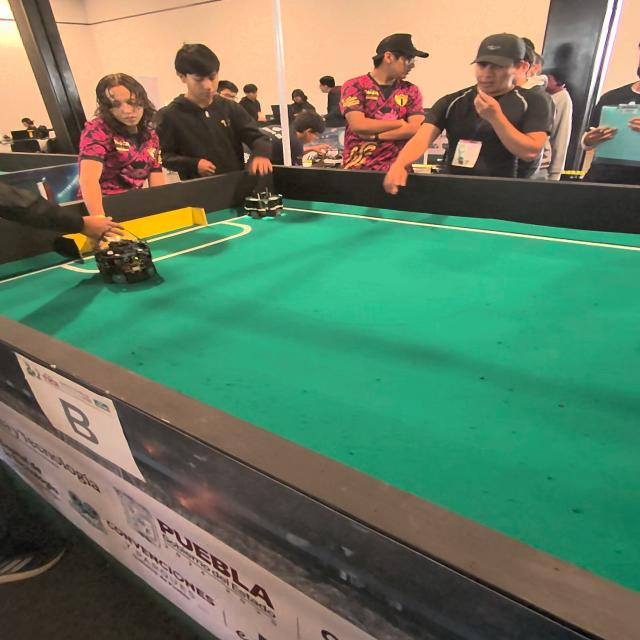Robot: (91, 226, 160, 291), (244, 172, 288, 225)
